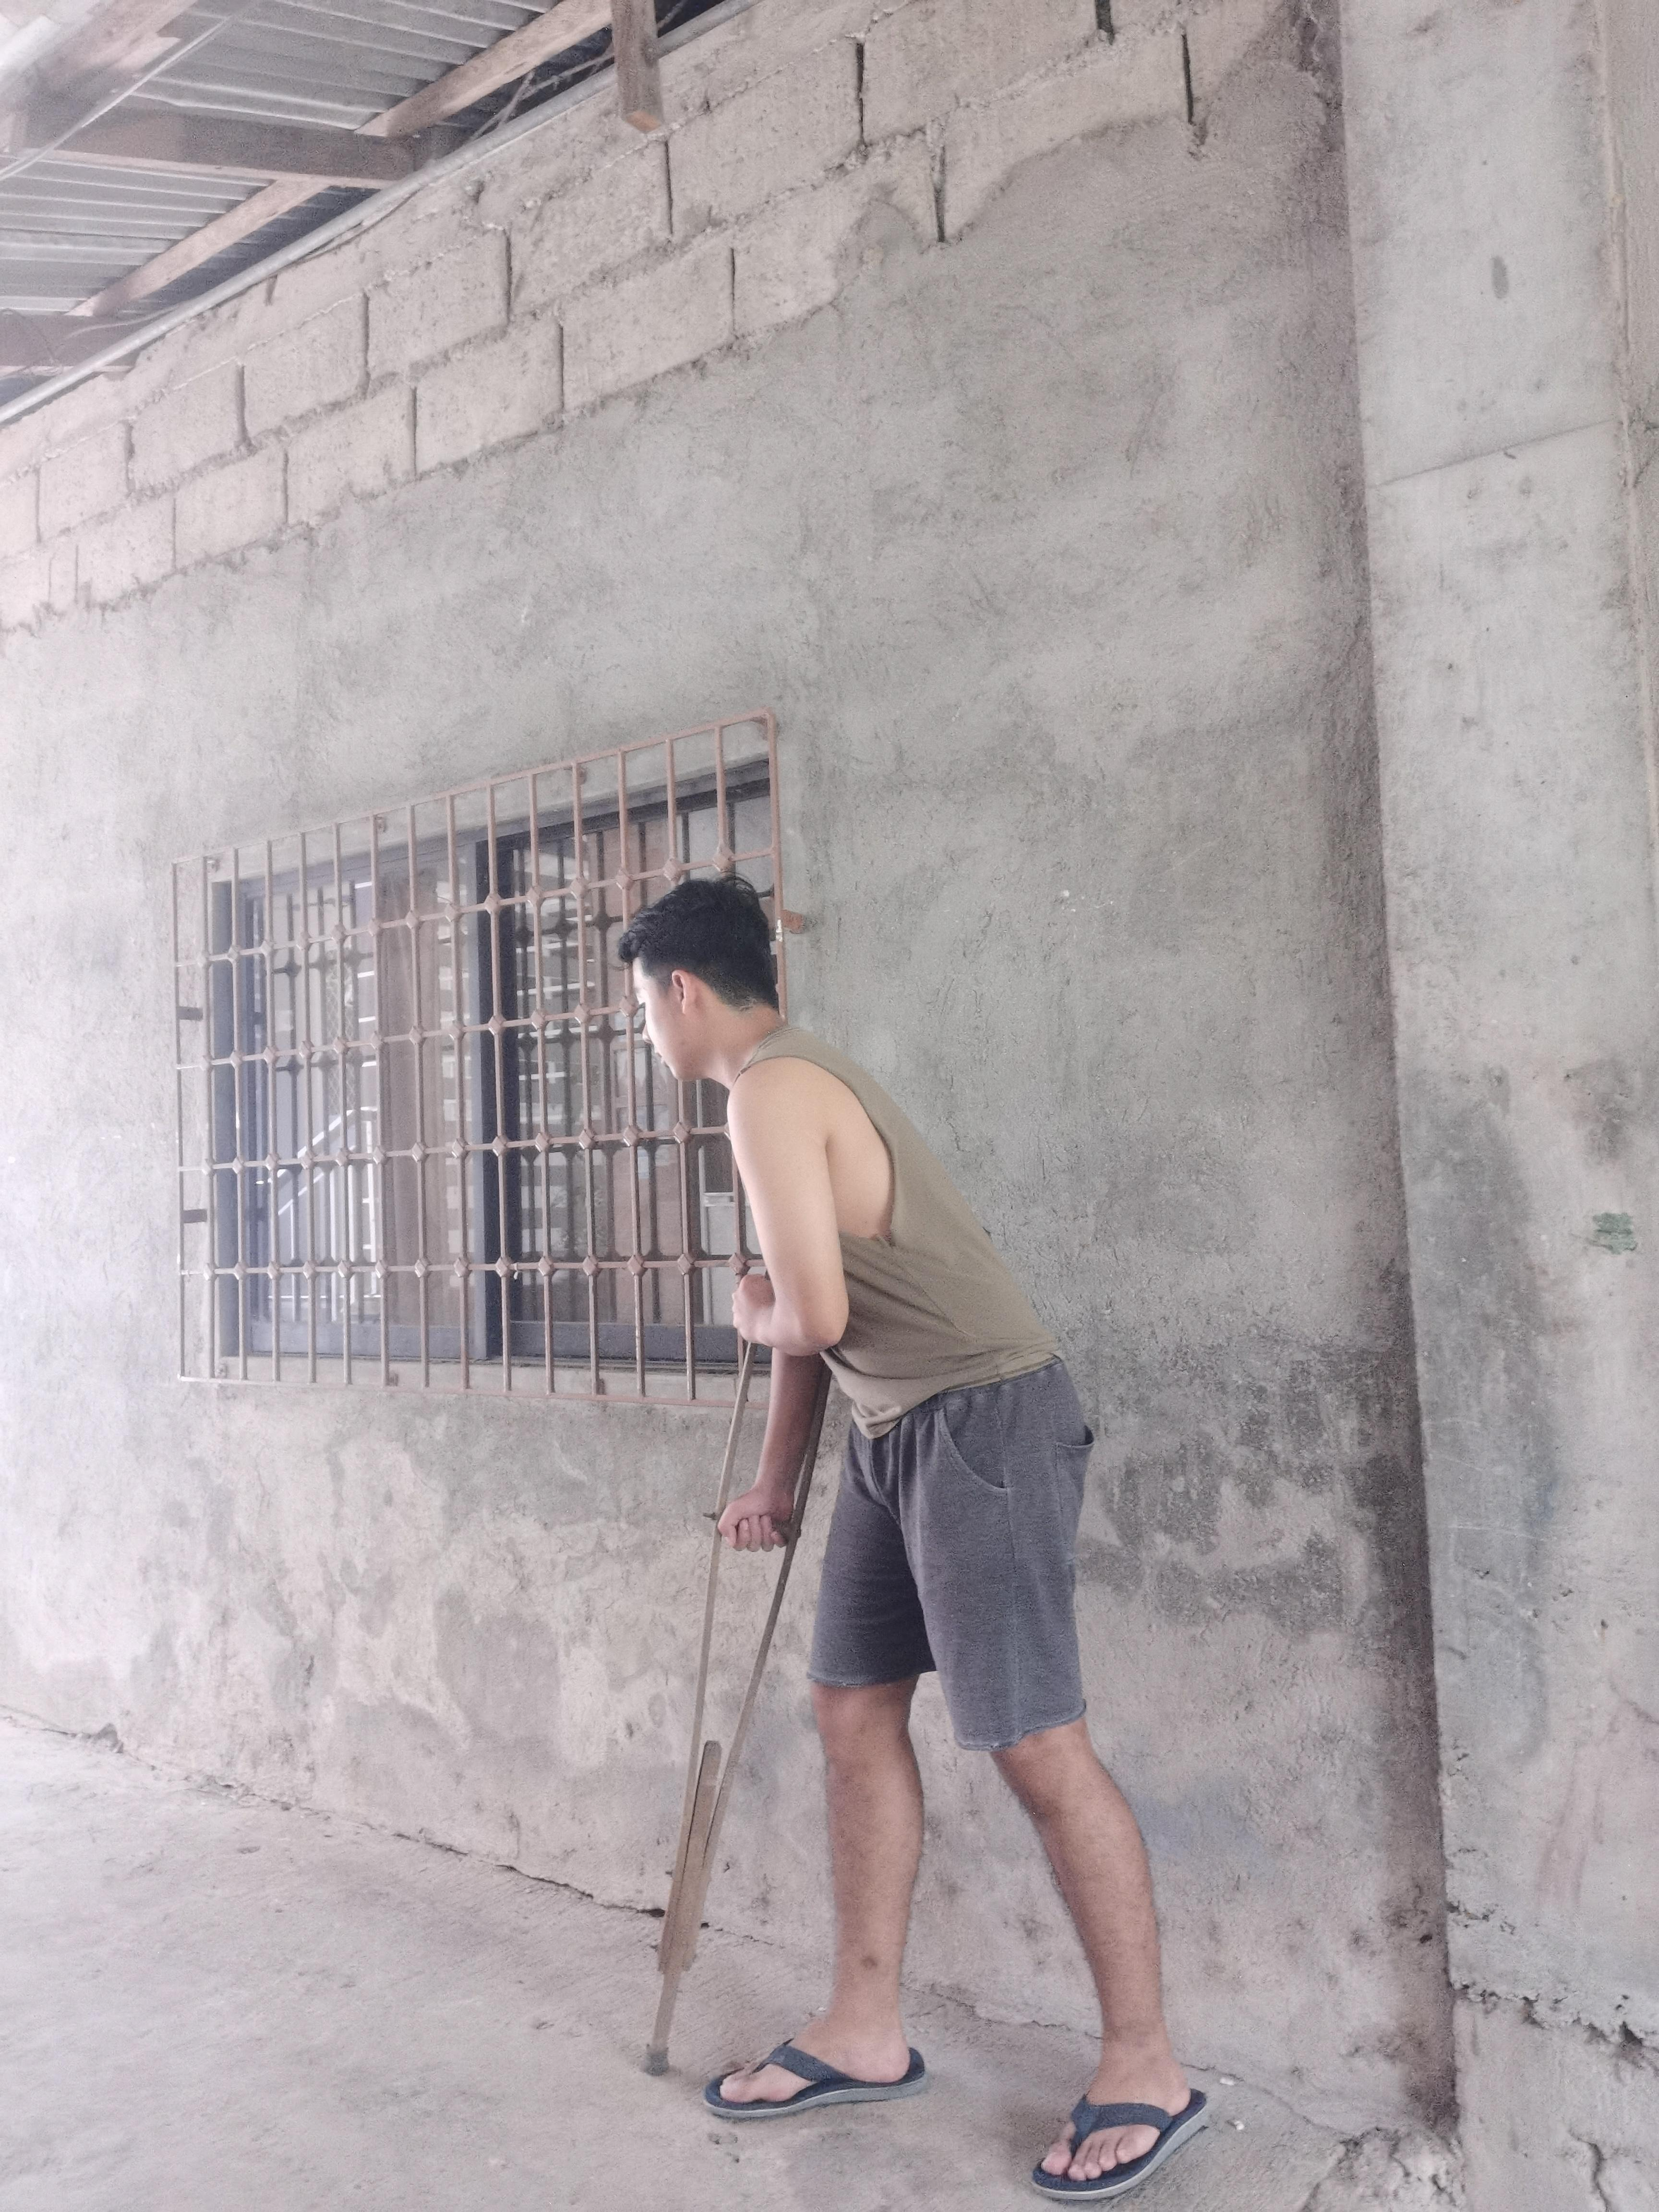crutches: (612, 876, 1216, 2205)
